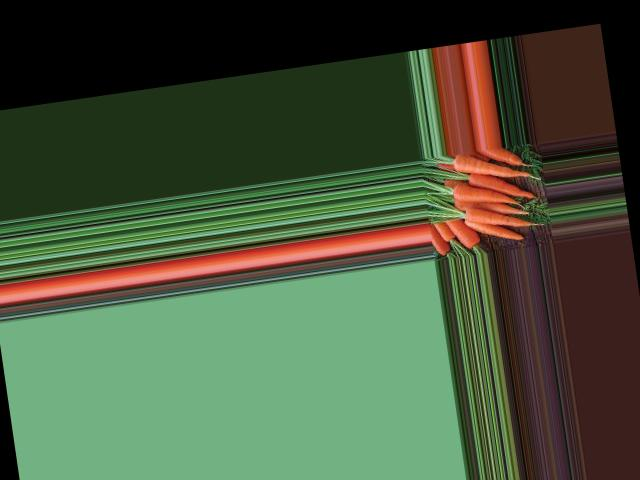carrot: (445, 144, 537, 182)
